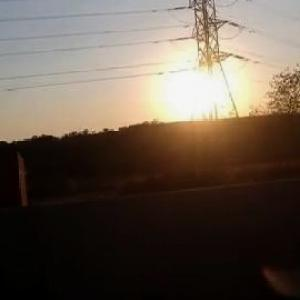follow: (289, 190, 300, 299)
